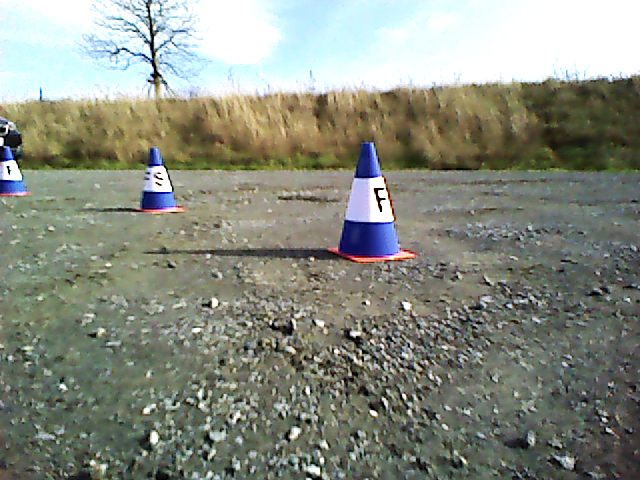bluecone: (340, 142, 398, 252), (141, 147, 176, 207), (1, 146, 24, 192)
